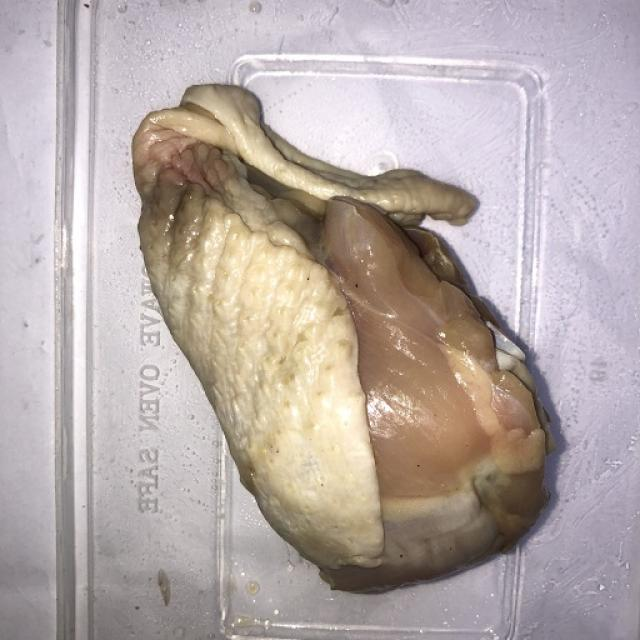chicken: (120, 65, 565, 606)
